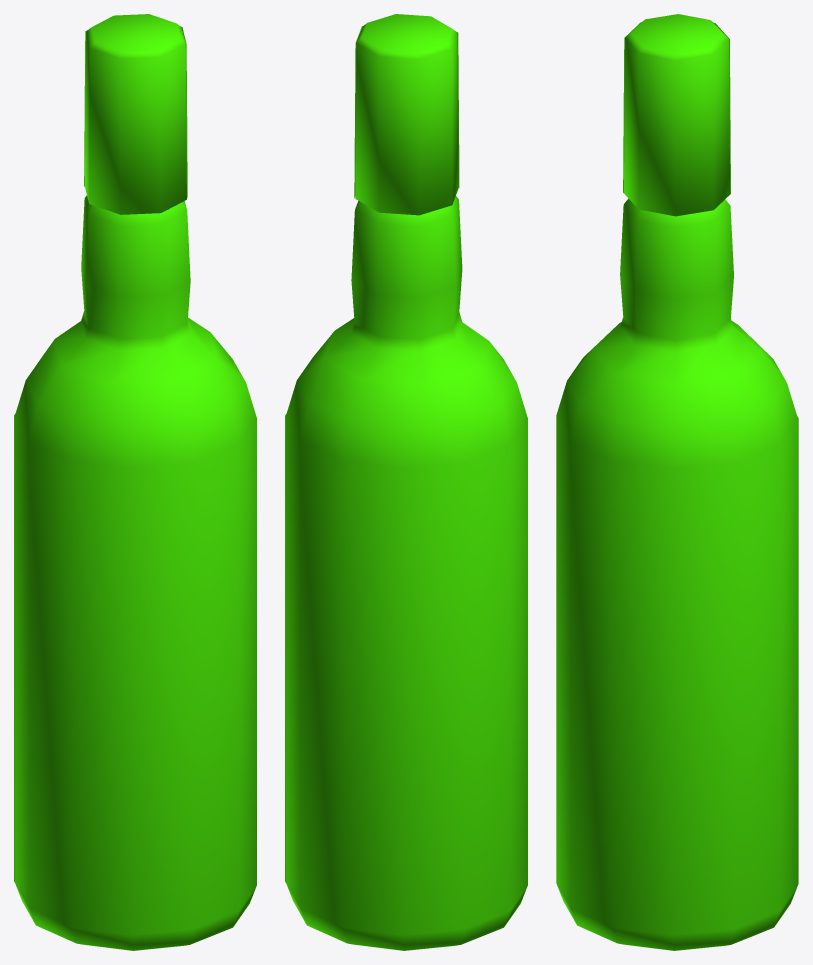
Rendered from 20_sambuca.gltf.
3 views of the same model, side by side, from view 1: azimuth 30°, elevation 25°; view 2: azimuth 150°, elevation 25°; view 3: azimuth 270°, elevation 25° (orthographic).
Visible parts, largest first — view 1: Molinari_Sambuka_Atlas_0, Molinari_Sambuka_Sprite_Sprites_0; view 2: Molinari_Sambuka_Atlas_0, Molinari_Sambuka_Sprite_Sprites_0; view 3: Molinari_Sambuka_Atlas_0, Molinari_Sambuka_Sprite_Sprites_0.
Part boxes in pixels (x1,y1,x2,y2): Molinari_Sambuka_Atlas_0: (15,14,256,950); Molinari_Sambuka_Sprite_Sprites_0: (14,26,187,882); Molinari_Sambuka_Atlas_0: (286,14,527,950); Molinari_Sambuka_Sprite_Sprites_0: (285,26,459,882); Molinari_Sambuka_Atlas_0: (556,14,797,950); Molinari_Sambuka_Sprite_Sprites_0: (623,22,798,884).
Size of the model in its own units: 7 by 27.73 by 6.97.
2 materials, 2 textured.
